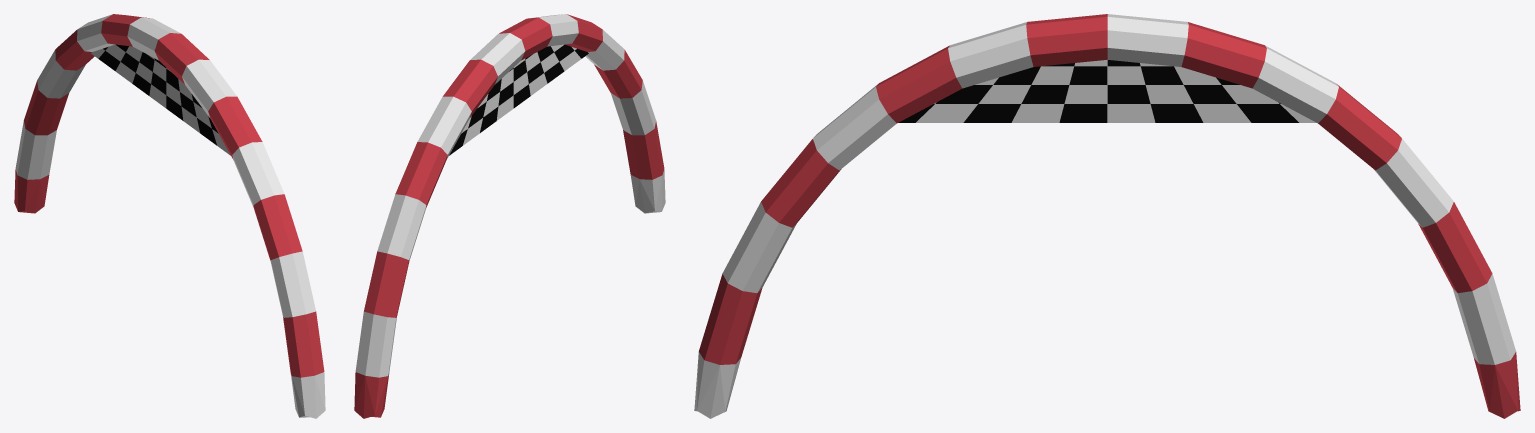
File: Gate.dae
3 renders of one model, left to right at view 1: azimuth 30°, elevation 25°; view 2: azimuth 150°, elevation 25°; view 3: azimuth 270°, elevation 25°, orthographic. The views are drawn at different scales.
Parts seen in each view (by area): view 1: Gate, Plane; view 2: Gate, Plane; view 3: Gate, Plane.
Part boxes in pixels (bbox=[...]): Gate: bbox=[14, 14, 325, 418]; Plane: bbox=[91, 44, 230, 155]; Gate: bbox=[354, 14, 665, 418]; Plane: bbox=[449, 44, 588, 155]; Gate: bbox=[694, 14, 1520, 418]; Plane: bbox=[898, 60, 1316, 122].
Bounding box in the file's own units: 1.2 × 19.81 × 10.5.
